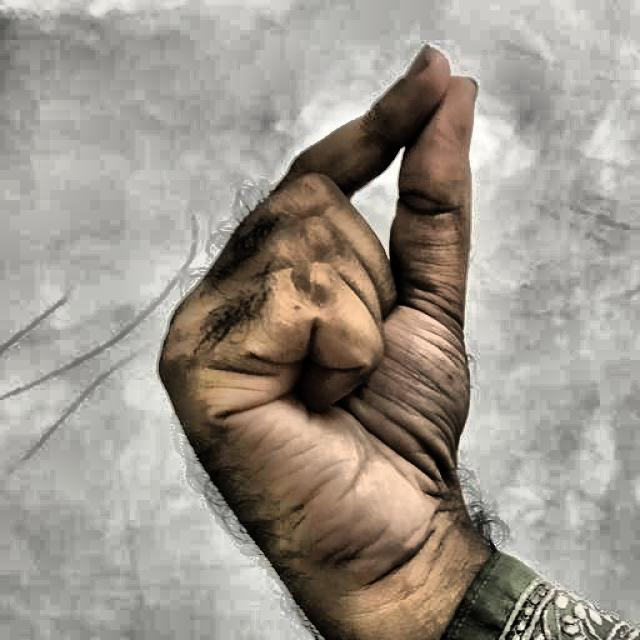Anusshar: (138, 25, 532, 610)
